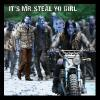motorcycles: (58, 48, 88, 100)
